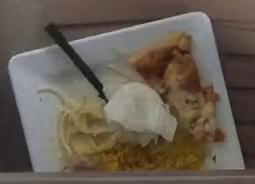pasta: (47, 89, 115, 155)
pizza: (130, 33, 225, 142)
rice: (76, 127, 206, 171)
